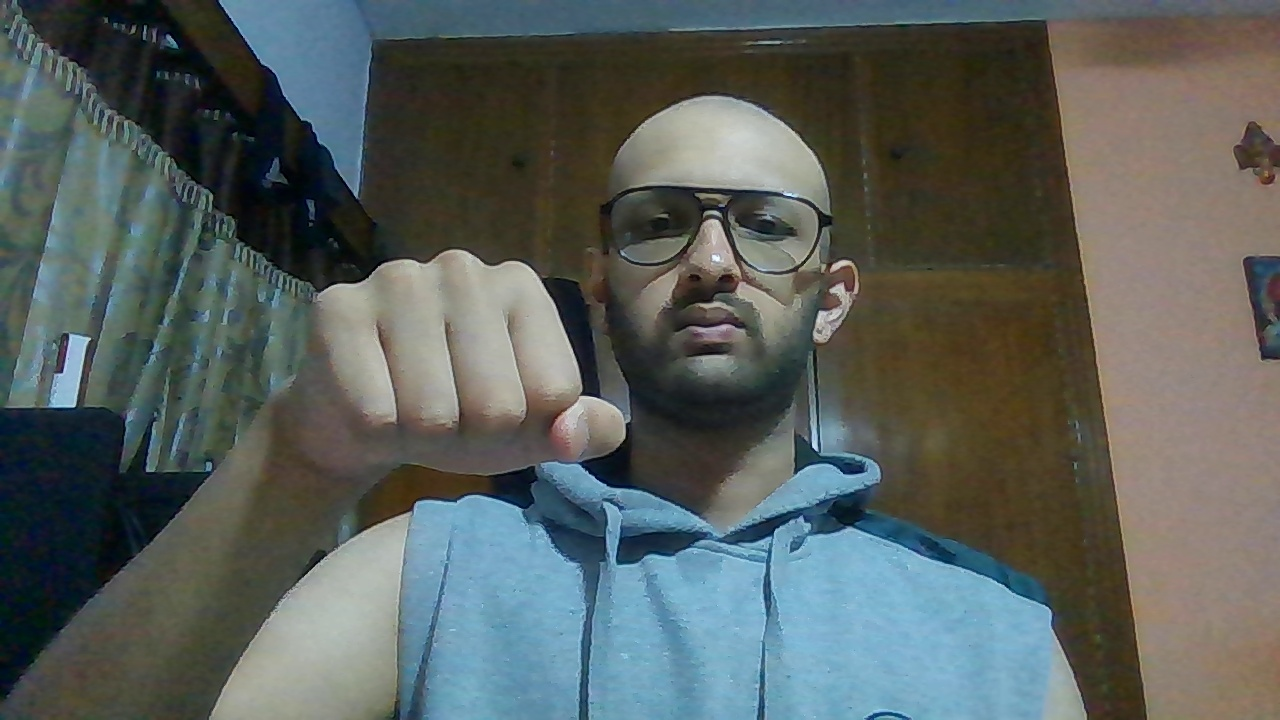Yes: (295, 250, 632, 480)
